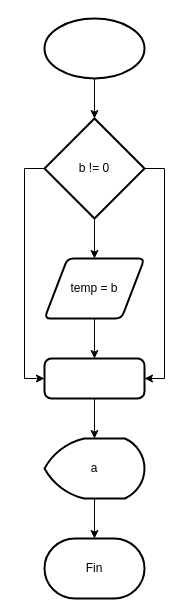
Some shapes in this 190 by 616 pixel diagram are drawn without their labels. The shapes that lost their labels are listed below. From the top down, each one's centre as x and y in pixels, then its label:
At point 94,48: "Inicio".
At point 94,378: "b = a % b a = temp".
